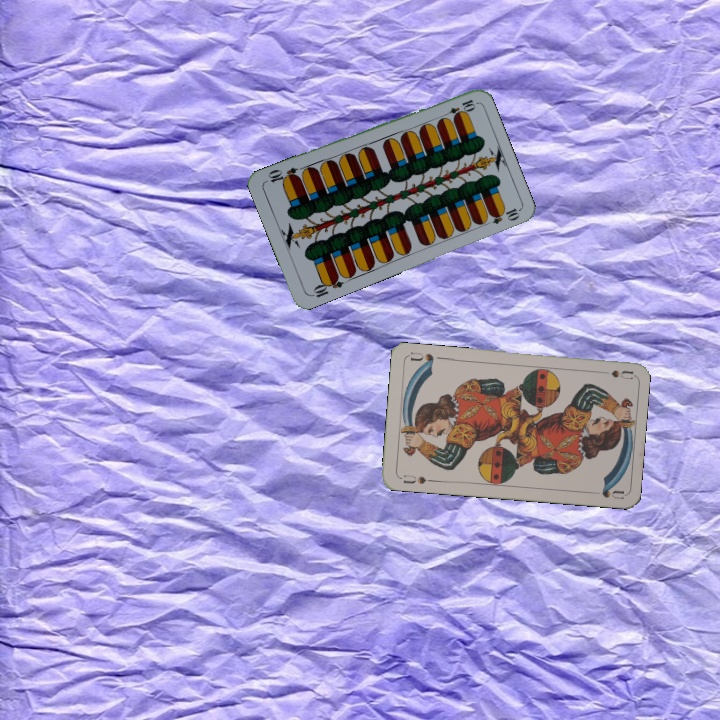E10: (307, 272, 346, 300), (438, 95, 478, 121)
SU: (396, 471, 436, 487), (594, 366, 634, 382)
